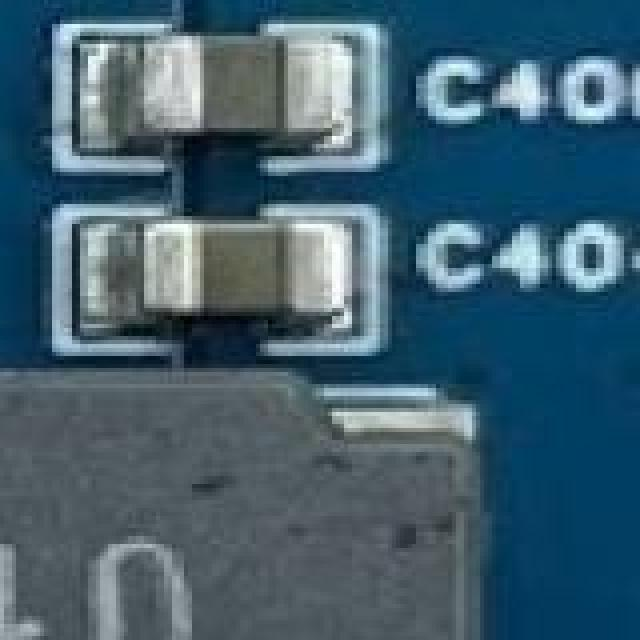capacitor: (88, 40, 386, 140), (108, 220, 380, 316)
inductor: (0, 364, 468, 640)
